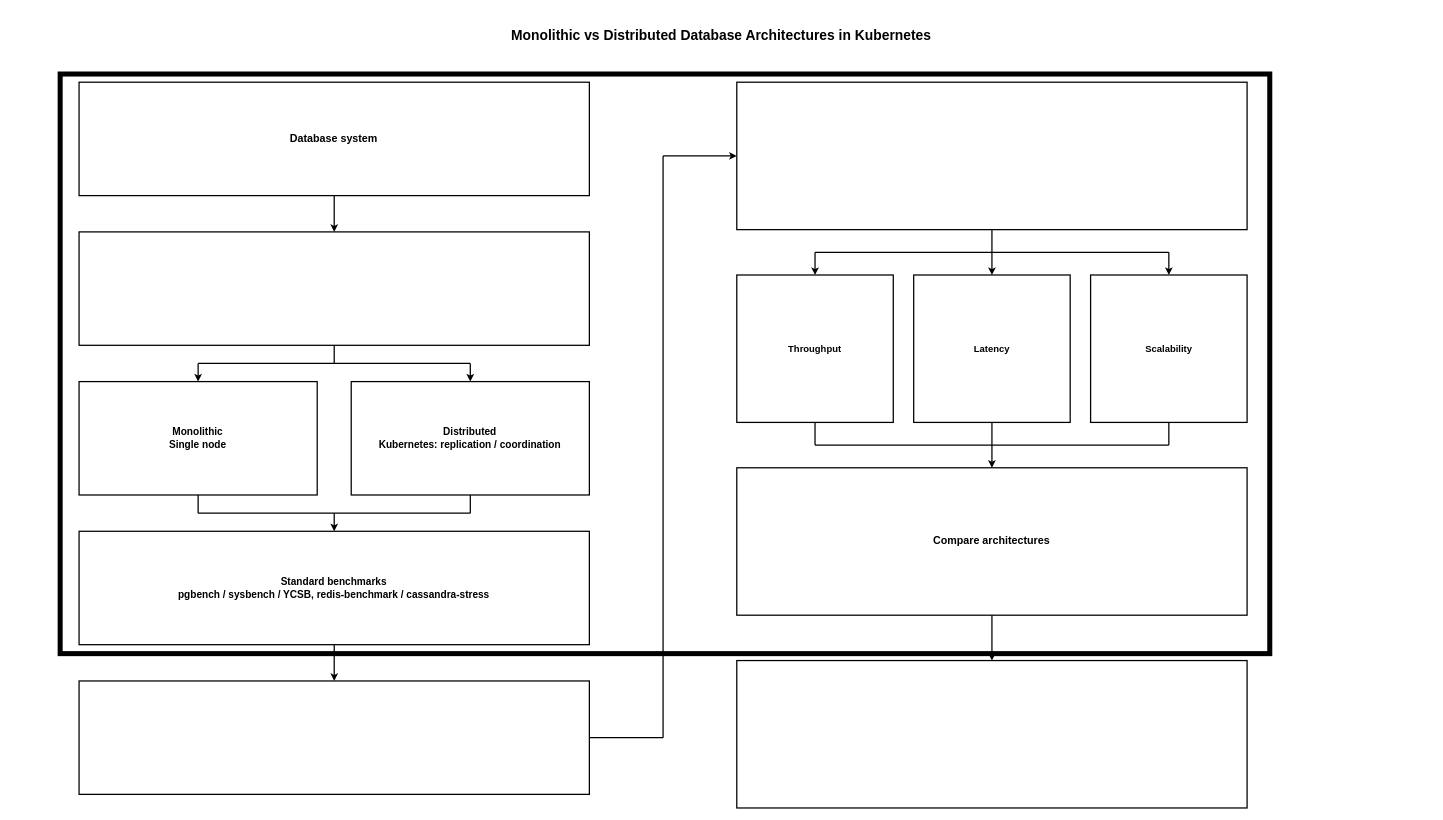
This 1443x820 diagram has some shape labels left out. The shapes that lost their labels are listed below. From the top down, each one's centre as x and y in pixels, then its label:
(991,155): Measure
(334,288): Select architecture
(334,737): Vary concurrency / workload type / dataset size
(991,734): Identify trade-off between vertical efficiency and horizontal scalability
